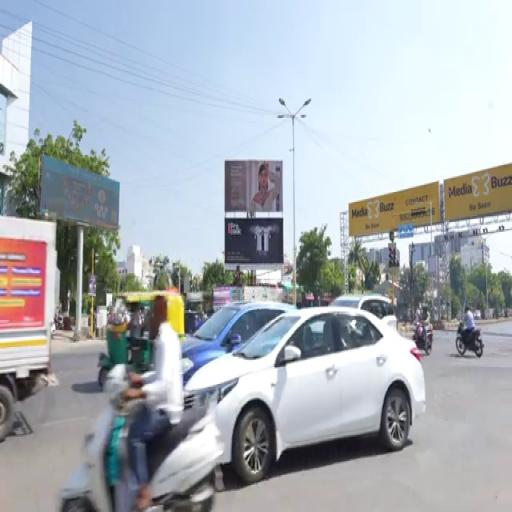Car: (185, 306, 425, 484), (182, 302, 295, 383), (331, 295, 398, 329), (474, 310, 482, 320)
